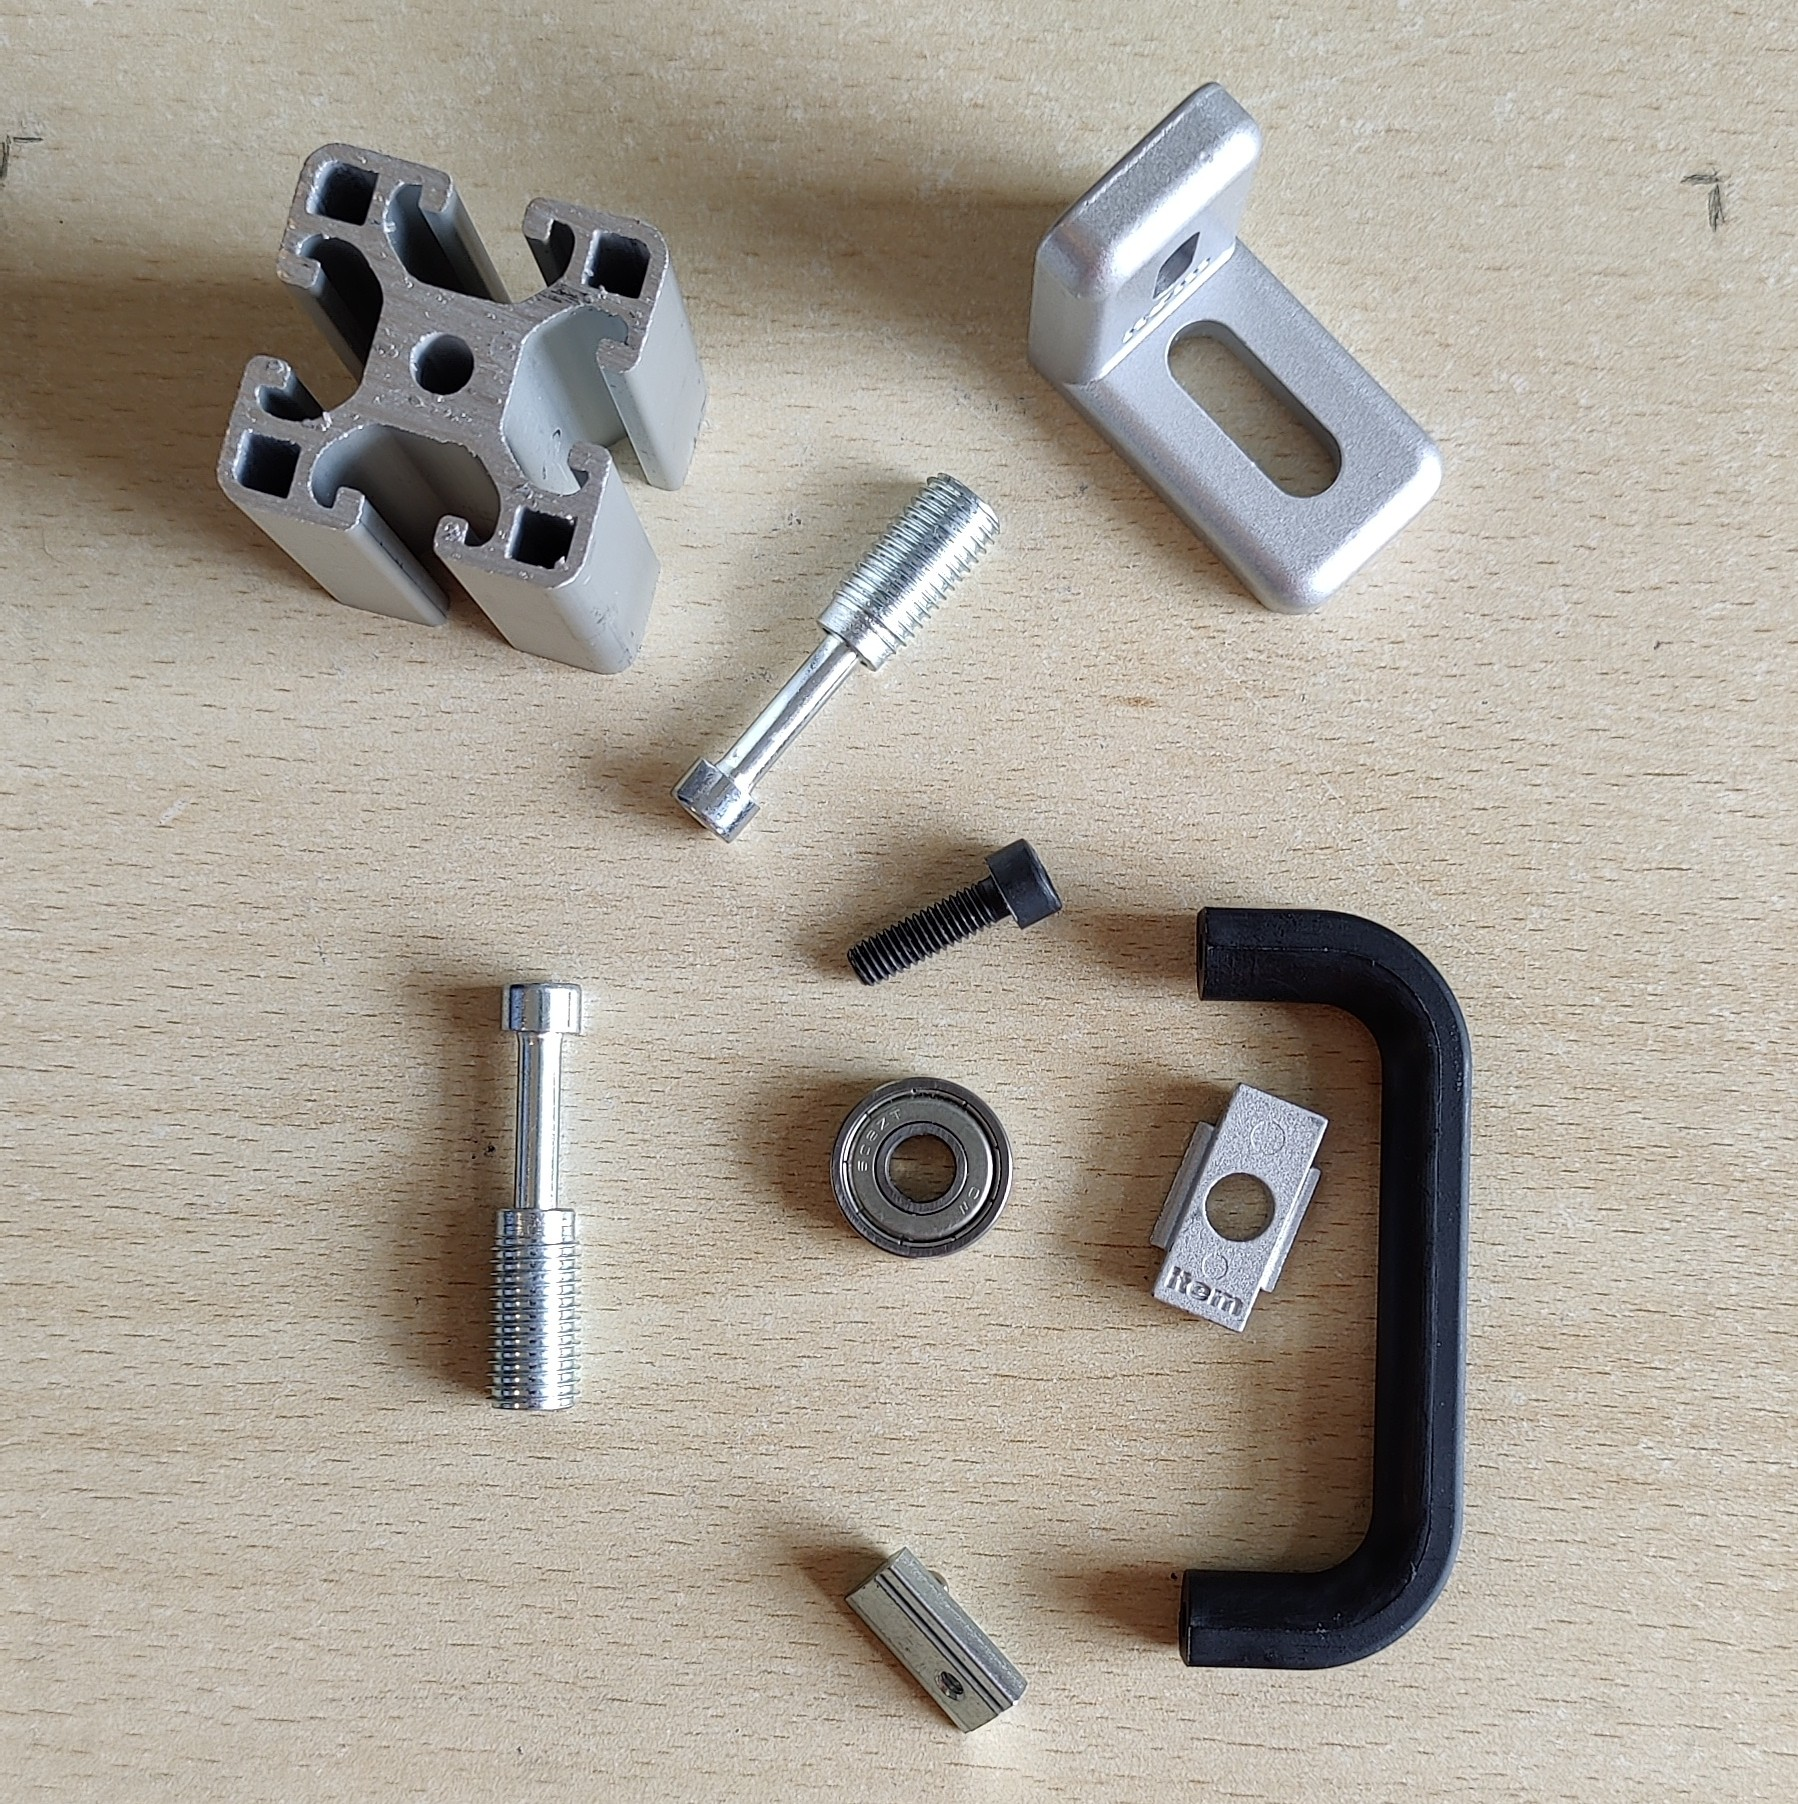Aluminium Extension: (212, 142, 710, 675)
Ball Bearing: (828, 1073, 1014, 1259)
Multiwinkel: (1024, 81, 1446, 616)
Pull Handle: (1176, 904, 1475, 1672)
Shoulder Socket Head Cap Screw: (672, 471, 1003, 844), (484, 978, 585, 1414)
Socket Head Cap Screw: (845, 838, 1064, 989)
T Nut Square: (1144, 1081, 1332, 1337)
T Spring Nut: (843, 1544, 1027, 1733)
